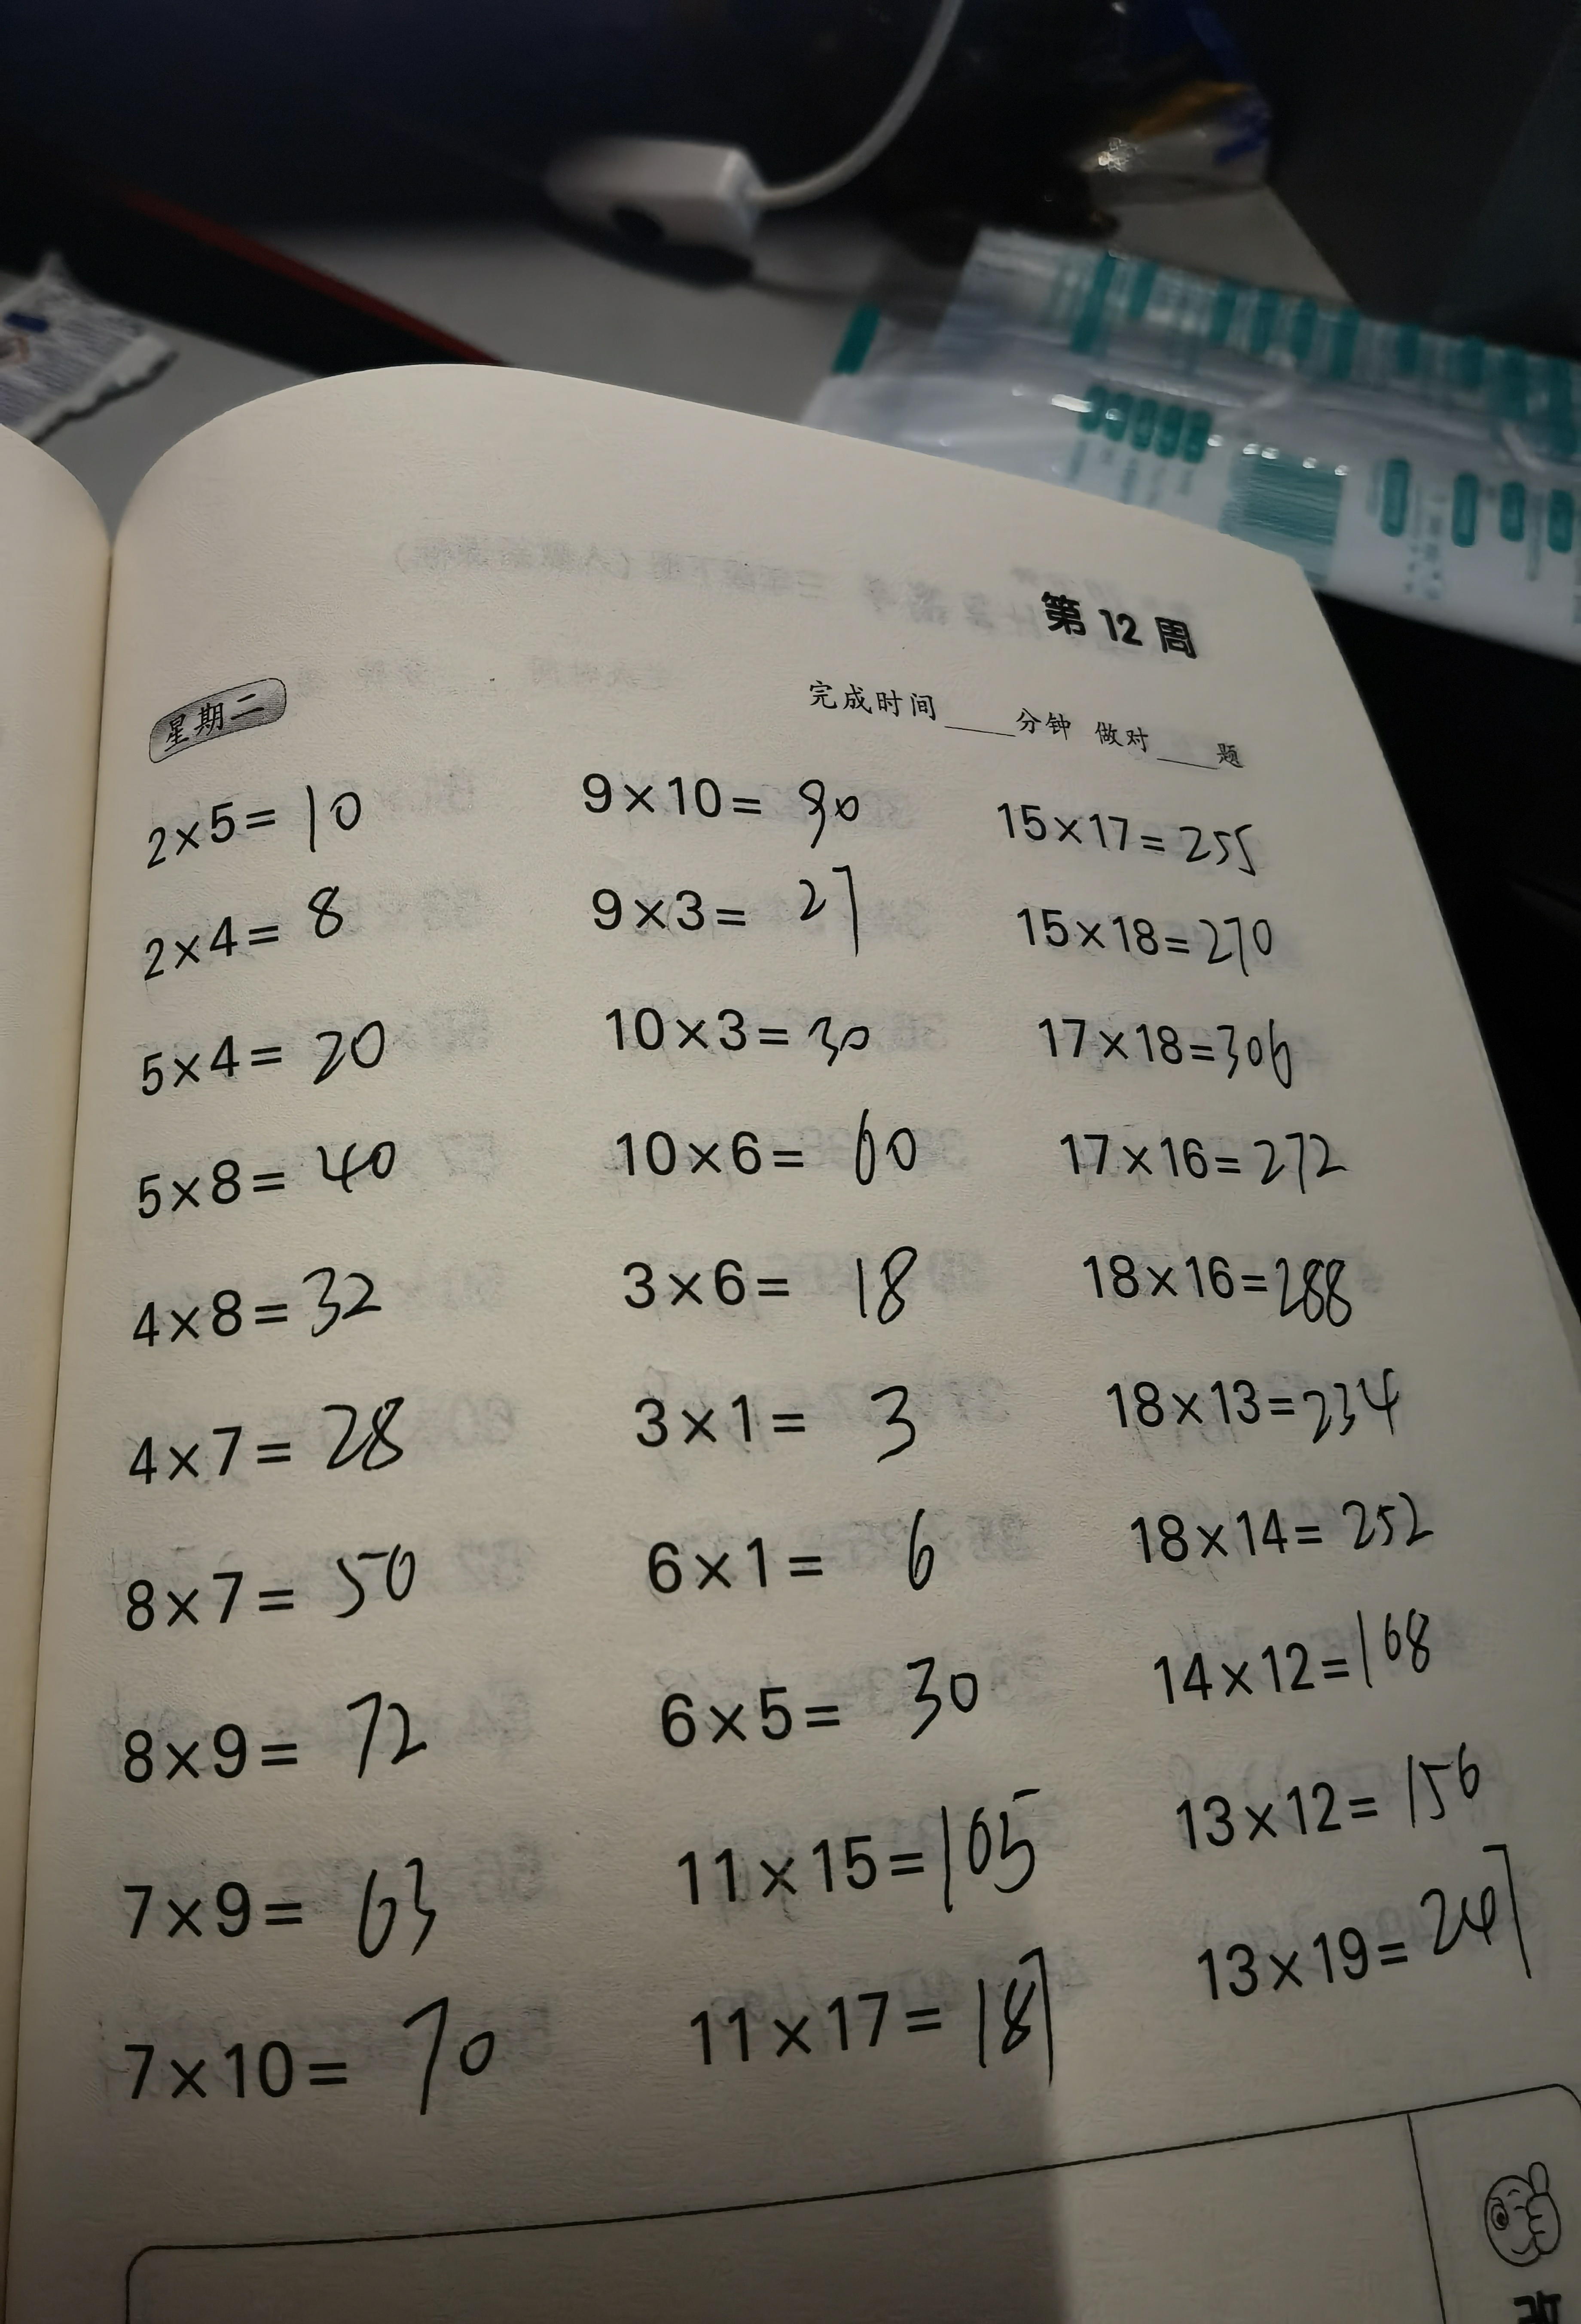equation: (669, 1936, 1158, 2095), (79, 1985, 528, 2139), (78, 1837, 528, 1983), (1189, 1886, 1555, 2056), (85, 1661, 494, 1807), (630, 1509, 1011, 1643), (651, 1789, 1089, 1906), (79, 1514, 483, 1639), (605, 1098, 1009, 1216), (79, 1382, 462, 1502), (1159, 1740, 1555, 1855), (641, 1652, 1025, 1763), (611, 1230, 988, 1341), (986, 762, 1300, 895), (92, 995, 438, 1115), (1015, 983, 1348, 1105), (101, 1249, 453, 1361), (1039, 1096, 1367, 1212), (1002, 886, 1332, 1001), (1122, 1486, 1470, 1593), (1110, 1609, 1505, 1703), (588, 854, 895, 972), (92, 1129, 439, 1233), (600, 981, 902, 1099), (106, 761, 418, 873), (563, 738, 884, 847), (1089, 1359, 1472, 1451), (1073, 1235, 1392, 1345), (605, 1378, 963, 1475), (101, 884, 411, 985)
